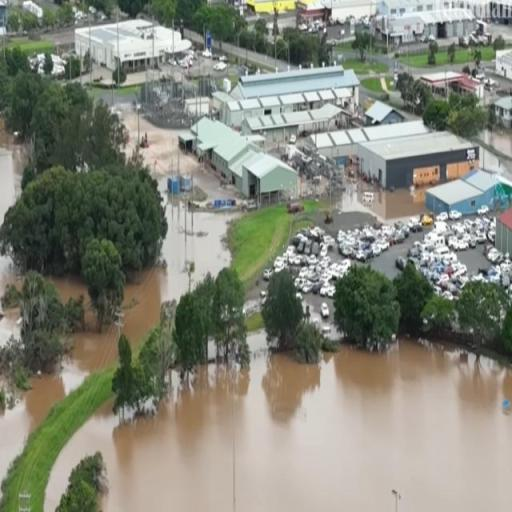flood: (0, 120, 248, 480), (44, 331, 512, 512), (338, 182, 425, 223), (0, 121, 23, 222), (0, 257, 19, 294), (0, 310, 18, 344), (125, 113, 137, 151), (494, 133, 512, 152)
house: (360, 128, 480, 189), (236, 69, 361, 112), (86, 18, 163, 81), (234, 148, 301, 208), (424, 172, 507, 218), (408, 8, 474, 40), (427, 71, 484, 92), (492, 94, 512, 126), (493, 49, 512, 80)
